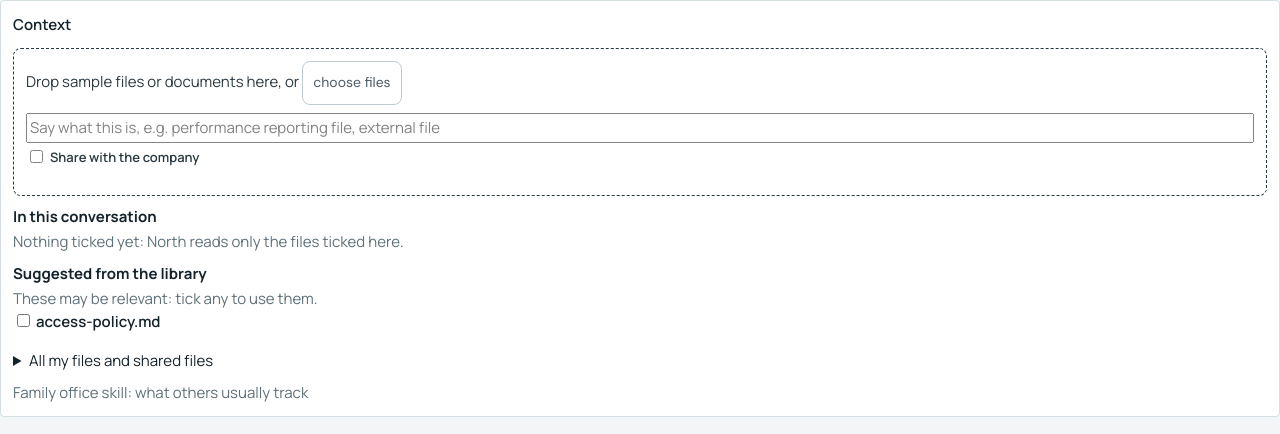
Test case: a suggestion is never pre-ticked; ticking it puts it in this conversation
The width and height of the screenshot is (1280, 434).
Expected: the text "These may be relevant: tick any to use them." is shown, left=13, top=288, right=318, bottom=309
Expected: the text "Nothing ticked yet: North reads only the files ticked here." is shown, left=13, top=231, right=404, bottom=252
Click the checkbox labelled "access-policy.md". click: (24, 321)
box: left=17, top=314, right=30, bottom=327
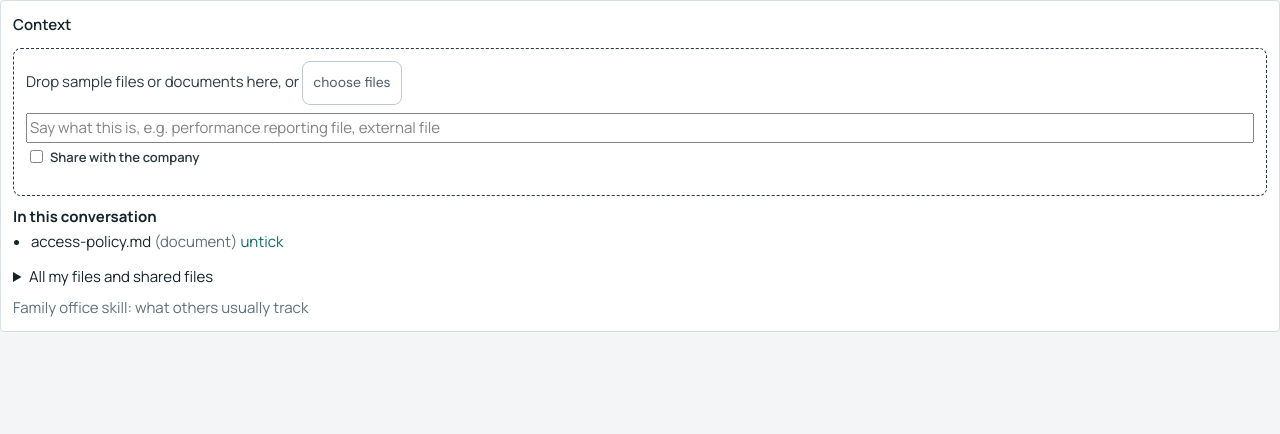
Expected: the text "Family office skill: what others usually track" is shown, left=13, top=297, right=308, bottom=318
Expected: the button with aria-label "Untick access-policy.md" is shown, left=240, top=230, right=284, bottom=253
